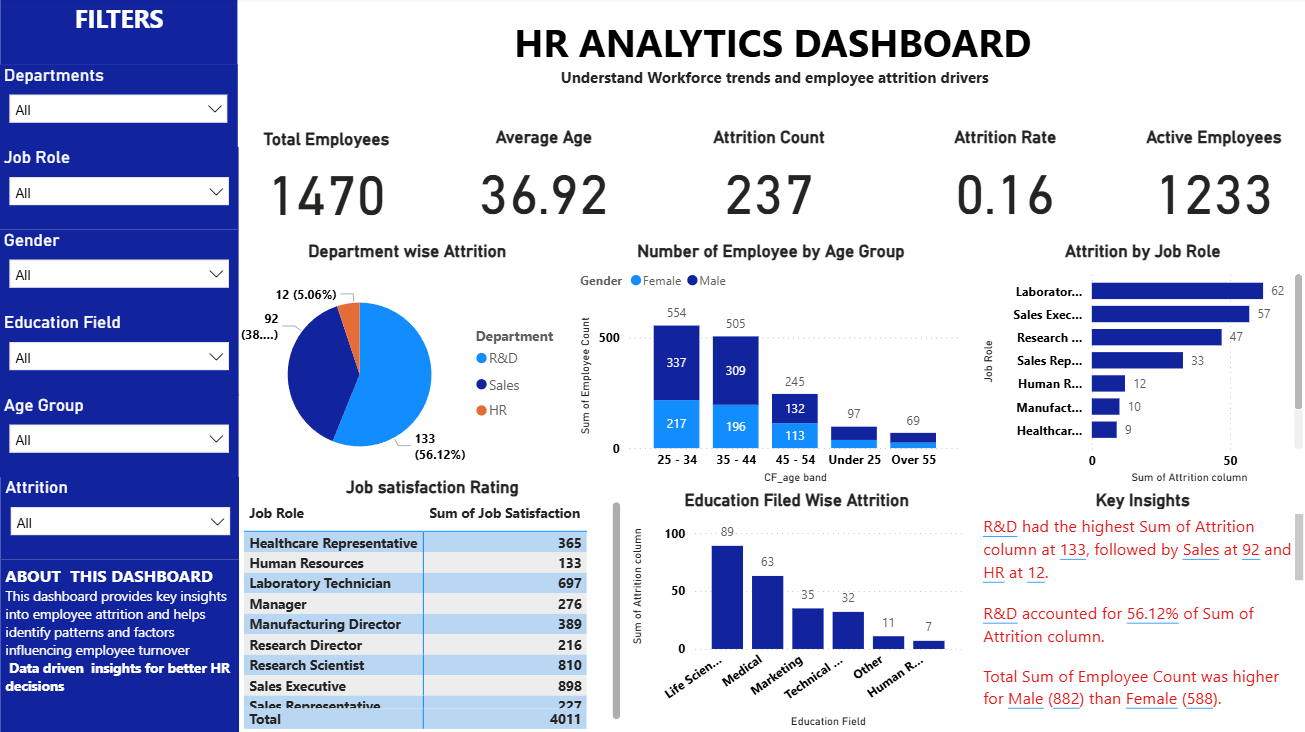

The page's visual inventory and layout, read from the dashboard file:
{"tool":"powerbi","page":{"name":"Page 1","canvas":[1280,720],"ordinal":0},"visuals":[{"type":"card","title":"Overall Employees","fields":{"Values":["Sum(HR data.Employee Count)"]},"box":[10.9,96.5,242.5,103.8],"z":0},{"type":"card","title":"Attrition Count","fields":{"Values":["Sum(HR data.Attrition column)"]},"box":[518.8,95.3,242.5,103.8],"z":1000},{"type":"card","title":"Attrition Rate","fields":{"Values":["HR data.Attrition Rate"]},"box":[769.7,95.3,242.5,103.8],"z":2000},{"type":"card","title":"Active Employees","fields":{"Values":["HR data.Active Employees"]},"box":[1027.9,96.5,242.5,103.8],"z":3000},{"type":"card","title":"Average Age","fields":{"Values":["HR data.Average Age"]},"box":[263,95.3,242.5,105],"z":4000},{"type":"pieChart","title":" Department Wise Attrition","fields":{"Category":["HR data.Department"],"Y":["Sum(HR data.Attrition column)"]},"box":[10.9,219.6,410.2,237.7],"z":5000},{"type":"columnChart","title":"Number of Employee by Age Group","fields":{"Category":["HR data.CF_age band"],"Y":["Sum(HR data.Employee Count)"],"Series":["HR data.Gender"]},"box":[435.5,218.4,410.2,238.9],"z":6000},{"type":"pivotTable","title":"Job Satisfaction Rating","fields":{"Rows":["HR data.Job Role"],"Columns":["HR data.Job Satisfaction"],"Values":["Sum(HR data.Employee Count)"]},"box":[860.2,219.6,410.2,238.9],"z":7000},{"type":"barChart","title":" Education Field Wise Attrition","fields":{"Category":["HR data.Education Field"],"Y":["Sum(HR data.Attrition column)"]},"box":[10.9,468.1,292,244.9],"z":8000},{"type":"donutChart","title":"Under 25","fields":{"Category":["HR data.Gender"],"Y":["Sum(HR data.Attrition column)"],"Series":["HR data.CF_age band"]},"box":[308.8,503.1,200,210],"z":9000},{"type":"textbox","title":"Attrition Rate by Gender Different Age Groups","box":[308.8,468.1,961.5,29],"z":10000},{"type":"donutChart","title":"25 - 34","fields":{"Category":["HR data.Gender"],"Y":["Sum(HR data.Attrition column)"],"Series":["HR data.CF_age band"]},"box":[509.1,503.1,200.3,209.9],"z":11000},{"type":"donutChart","title":"35 - 44","fields":{"Category":["HR data.Gender"],"Y":["Sum(HR data.Attrition column)"],"Series":["HR data.CF_age band"]},"box":[709.4,503.1,200.3,209.9],"z":12000},{"type":"donutChart","title":"45 - 54","fields":{"Category":["HR data.Gender"],"Y":["Sum(HR data.Attrition column)"],"Series":["HR data.CF_age band"]},"box":[902.4,503.1,200.3,209.9],"z":13000},{"type":"donutChart","title":"Above 55","fields":{"Category":["HR data.Gender"],"Y":["Sum(HR data.Attrition column)"],"Series":["HR data.CF_age band"]},"box":[1079.8,503.1,200.3,209.9],"z":14000},{"type":"card","fields":{"Values":["Sum(HR data.Attrition column)"]},"box":[974.8,597.2,55.5,43.4],"z":15000},{"type":"card","fields":{"Values":["Sum(HR data.Attrition column)"]},"box":[1152.2,597.2,55.5,43.4],"z":16000},{"type":"card","fields":{"Values":["Sum(HR data.Attrition column)"]},"box":[781.8,597.2,55.5,43.4],"z":17000},{"type":"card","fields":{"Values":["Sum(HR data.Attrition column)"]},"box":[380,597.2,55.5,43.4],"z":18000},{"type":"card","fields":{"Values":["Sum(HR data.Attrition column)"]},"box":[582.7,597.2,48.3,43.4],"z":19000},{"type":"textbox","title":"HR ANALYTICS DASHBOARD","box":[10.9,20.5,629.8,57.9],"z":20000},{"type":"slicer","fields":{"Values":["HR data.Education"]},"box":[650.3,20.5,620.1,66.4],"z":21000}]}

Visuals, with their boxes in screenshot pixels (x1, y1, x2, y2), scaled from the page's 1280x720 canvas onto the 1305x732 screenshot:
"Overall Employees" card: (11,98,258,204)
"Attrition Count" card: (529,97,776,202)
"Attrition Rate" card: (785,97,1032,202)
"Active Employees" card: (1048,98,1295,204)
"Average Age" card: (268,97,515,204)
" Department Wise Attrition" pieChart: (11,223,429,465)
"Number of Employee by Age Group" columnChart: (444,222,862,465)
"Job Satisfaction Rating" pivotTable: (877,223,1295,466)
" Education Field Wise Attrition" barChart: (11,476,309,725)
"Under 25" donutChart: (315,511,519,725)
"Attrition Rate by Gender Different Age Groups" textbox: (315,476,1295,505)
"25 - 34" donutChart: (519,511,723,725)
"35 - 44" donutChart: (723,511,927,725)
"45 - 54" donutChart: (920,511,1124,725)
"Above 55" donutChart: (1101,511,1304,725)
card - Sum(HR data.Attrition column): (994,607,1050,651)
card - Sum(HR data.Attrition column): (1175,607,1231,651)
card - Sum(HR data.Attrition column): (797,607,854,651)
card - Sum(HR data.Attrition column): (387,607,444,651)
card - Sum(HR data.Attrition column): (594,607,643,651)
"HR ANALYTICS DASHBOARD" textbox: (11,21,653,80)
slicer - HR data.Education: (663,21,1295,88)
